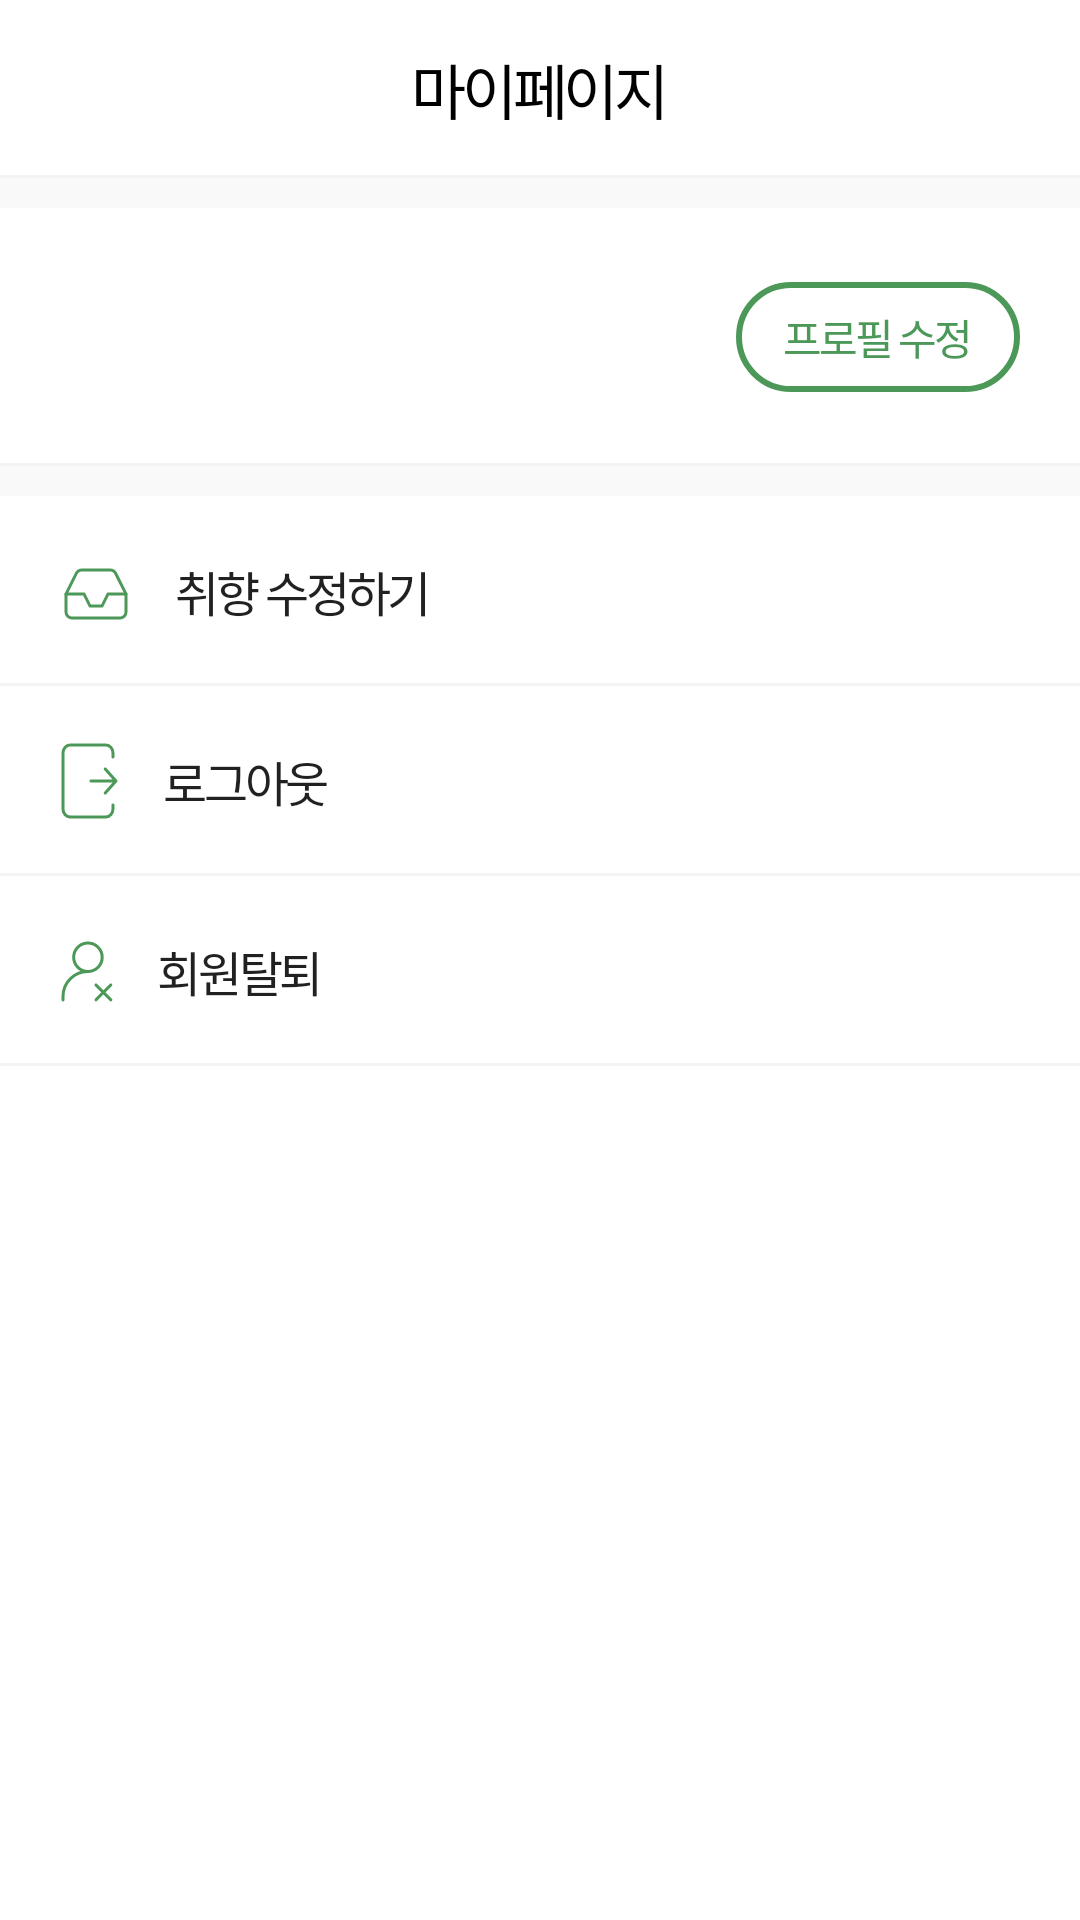

Icons on this 1080w x 1920h Android screen, each with its box as (x1, y1, x2, y2):
unsubscribe: (61, 941, 113, 1002)
